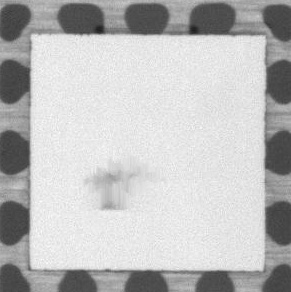DIE_INK: (86, 158, 138, 210)
